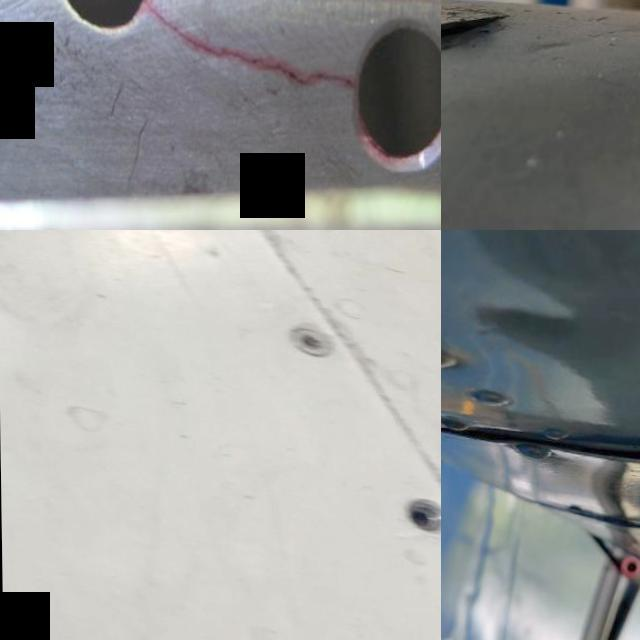Crack: (136, 0, 359, 91), (441, 0, 524, 80)
Dent: (458, 263, 598, 371)
Missing_Fastener: (391, 492, 441, 538)
